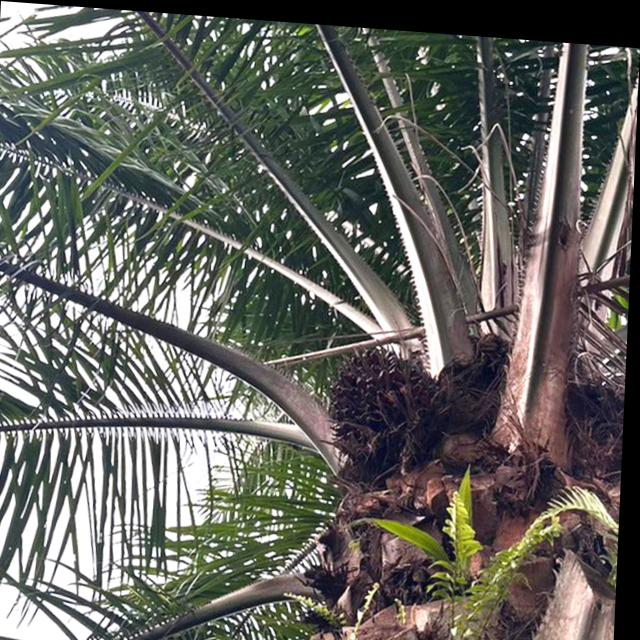ripe: (318, 321, 452, 465)
